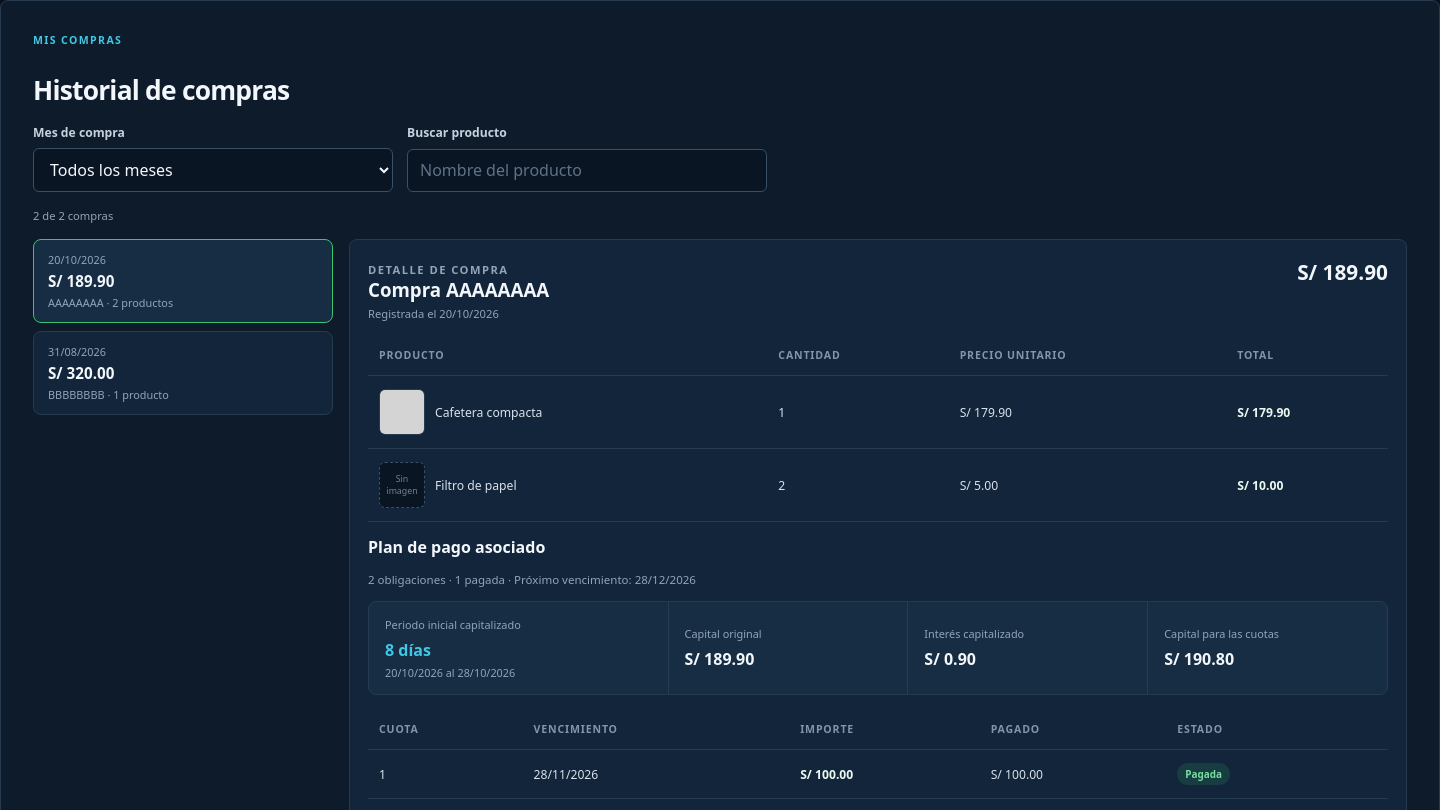
Scenario: PurchaseHistory › filters the history by purchase month using the Lima commercial date
Select "Agosto 2026" in the dropdown labelled "Mes de compra": (213, 170) 33,148 -> 393,192
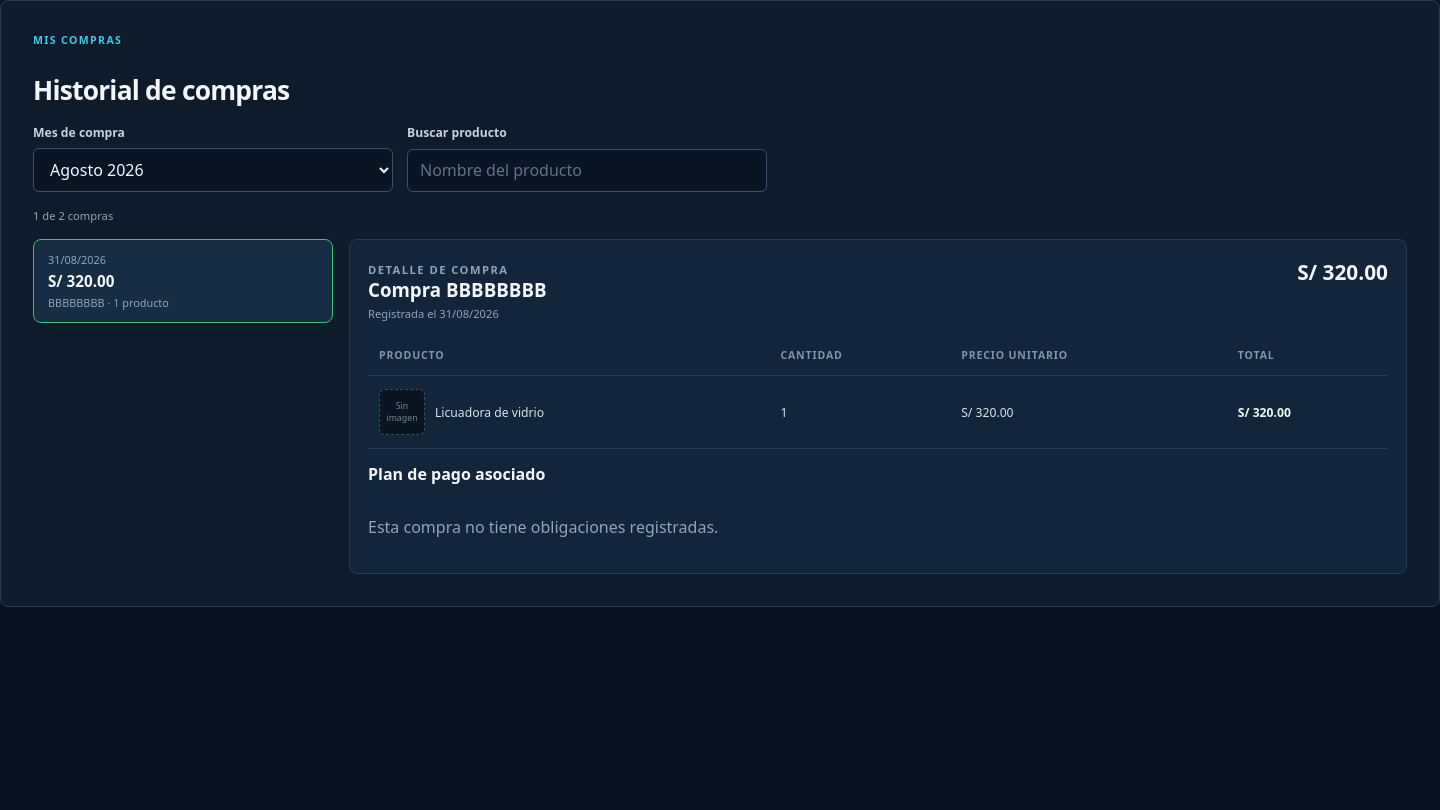
Expected: the number of buttons is 1, 33,239 -> 333,323
Expected: the text "1 de 2 compras" is shown, 33,208 -> 113,223
Expected: the heading "Compra BBBBBBBB" is shown, 368,277 -> 546,302
